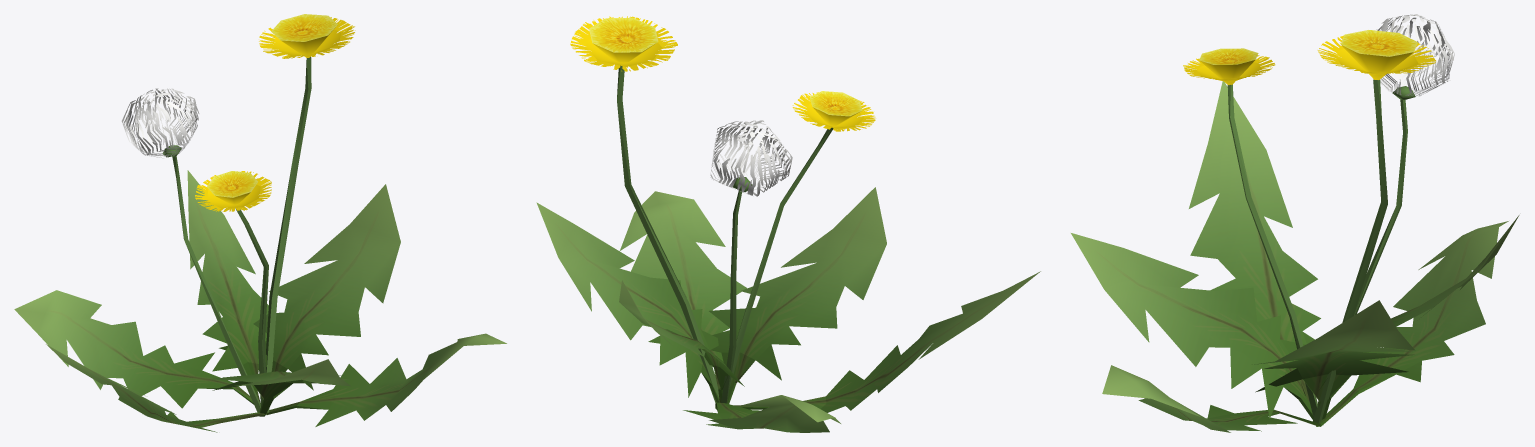
File: Dandelion01.fbx
3 views of the same model, side by side, from view 1: azimuth 30°, elevation 25°; view 2: azimuth 150°, elevation 25°; view 3: azimuth 270°, elevation 25° (orthographic). The views are drawn at different scales.
Parts seen in each view (by area): view 1: dandelions_01:DandelionLeaf23, dandelions_01:DandelionLeaf22, dandelions_01:DandelionLeaf21, dandelions_01:DandelionLeaf24, dandelions_01:Dandelion_Fluffball01, dandelions_01:Dandelion_Stem01, dandelions_01:DandelionLeaf25, dandelions_01:DandelionLeaf18, dandelions_01:Dandelion_Inside01, dandelions_01:Dandelion_FluffStem01, dandelions_01:Dandelion_OuterRing01, dandelions_01:Dandelion_OuterRing02 (+2 smaller); view 2: dandelions_01:DandelionLeaf25, dandelions_01:DandelionLeaf23, dandelions_01:DandelionLeaf24, dandelions_01:DandelionLeaf18, dandelions_01:Dandelion_Fluffball01, dandelions_01:DandelionLeaf22, dandelions_01:Dandelion_Stem01, dandelions_01:Dandelion_Inside01, dandelions_01:Dandelion_OuterRing01, dandelions_01:DandelionLeaf21, dandelions_01:Dandelion_FluffStem01, dandelions_01:Dandelion_Stem02 (+2 smaller); view 3: dandelions_01:DandelionLeaf25, dandelions_01:DandelionLeaf18, dandelions_01:DandelionLeaf22, dandelions_01:DandelionLeaf23, dandelions_01:DandelionLeaf24, dandelions_01:Dandelion_Fluffball01, dandelions_01:Dandelion_Stem01, dandelions_01:Dandelion_Inside01, dandelions_01:Dandelion_Stem02, dandelions_01:Dandelion_FluffStem01, dandelions_01:Dandelion_OuterRing01, dandelions_01:Dandelion_Inside02 (+2 smaller).
Part boxes in pixels (x1=…): dandelions_01:DandelionLeaf23: x1=219, y1=184, x2=400, y2=415; dandelions_01:DandelionLeaf22: x1=14, y1=290, x2=253, y2=408; dandelions_01:DandelionLeaf21: x1=187, y1=170, x2=268, y2=403; dandelions_01:DandelionLeaf24: x1=267, y1=333, x2=506, y2=426; dandelions_01:Dandelion_Fluffball01: x1=121, y1=88, x2=199, y2=158; dandelions_01:Dandelion_Stem01: x1=266, y1=57, x2=311, y2=412; dandelions_01:DandelionLeaf25: x1=212, y1=359, x2=350, y2=416; dandelions_01:DandelionLeaf18: x1=46, y1=344, x2=267, y2=432; dandelions_01:Dandelion_Inside01: x1=271, y1=14, x2=337, y2=57; dandelions_01:Dandelion_FluffStem01: x1=162, y1=145, x2=260, y2=412; dandelions_01:Dandelion_OuterRing01: x1=259, y1=17, x2=355, y2=58; dandelions_01:Dandelion_OuterRing02: x1=195, y1=171, x2=271, y2=211; dandelions_01:DandelionLeaf25: x1=709, y1=187, x2=886, y2=403; dandelions_01:DandelionLeaf23: x1=536, y1=202, x2=719, y2=402; dandelions_01:DandelionLeaf24: x1=620, y1=191, x2=746, y2=409; dandelions_01:DandelionLeaf18: x1=734, y1=271, x2=1040, y2=412; dandelions_01:Dandelion_Fluffball01: x1=710, y1=120, x2=792, y2=196; dandelions_01:DandelionLeaf22: x1=683, y1=395, x2=840, y2=432; dandelions_01:Dandelion_Stem01: x1=617, y1=65, x2=719, y2=403; dandelions_01:Dandelion_Inside01: x1=589, y1=17, x2=658, y2=62; dandelions_01:Dandelion_OuterRing01: x1=570, y1=16, x2=677, y2=71; dandelions_01:DandelionLeaf21: x1=619, y1=280, x2=744, y2=402; dandelions_01:Dandelion_FluffStem01: x1=721, y1=177, x2=752, y2=403; dandelions_01:Dandelion_Stem02: x1=729, y1=127, x2=833, y2=388; dandelions_01:DandelionLeaf25: x1=1071, y1=233, x2=1313, y2=419; dandelions_01:DandelionLeaf18: x1=1189, y1=81, x2=1320, y2=426; dandelions_01:DandelionLeaf22: x1=1319, y1=221, x2=1508, y2=426; dandelions_01:DandelionLeaf23: x1=1252, y1=300, x2=1415, y2=419; dandelions_01:DandelionLeaf24: x1=1102, y1=365, x2=1320, y2=432; dandelions_01:Dandelion_Fluffball01: x1=1376, y1=14, x2=1454, y2=96; dandelions_01:Dandelion_Stem01: x1=1313, y1=79, x2=1387, y2=423; dandelions_01:Dandelion_Inside01: x1=1340, y1=30, x2=1417, y2=79; dandelions_01:Dandelion_Stem02: x1=1227, y1=84, x2=1317, y2=417; dandelions_01:Dandelion_FluffStem01: x1=1326, y1=86, x2=1415, y2=414; dandelions_01:Dandelion_OuterRing01: x1=1317, y1=35, x2=1435, y2=74; dandelions_01:Dandelion_Inside02: x1=1199, y1=48, x2=1258, y2=84.
Size of the model in its own units: 10.57 by 8.78 by 8.4.
